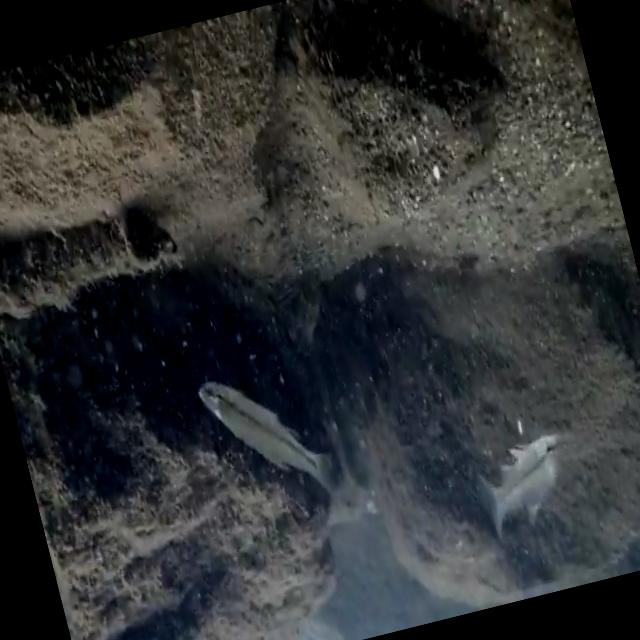Cakil Baligi: (192, 349, 342, 520), (464, 420, 583, 541)
